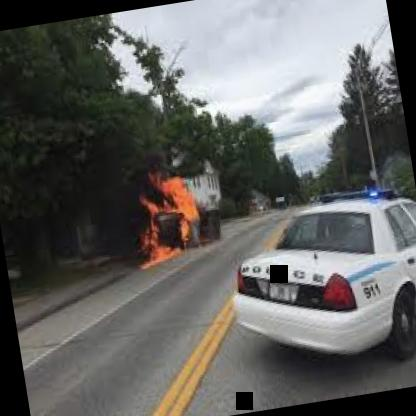fire: (92, 146, 230, 290)
